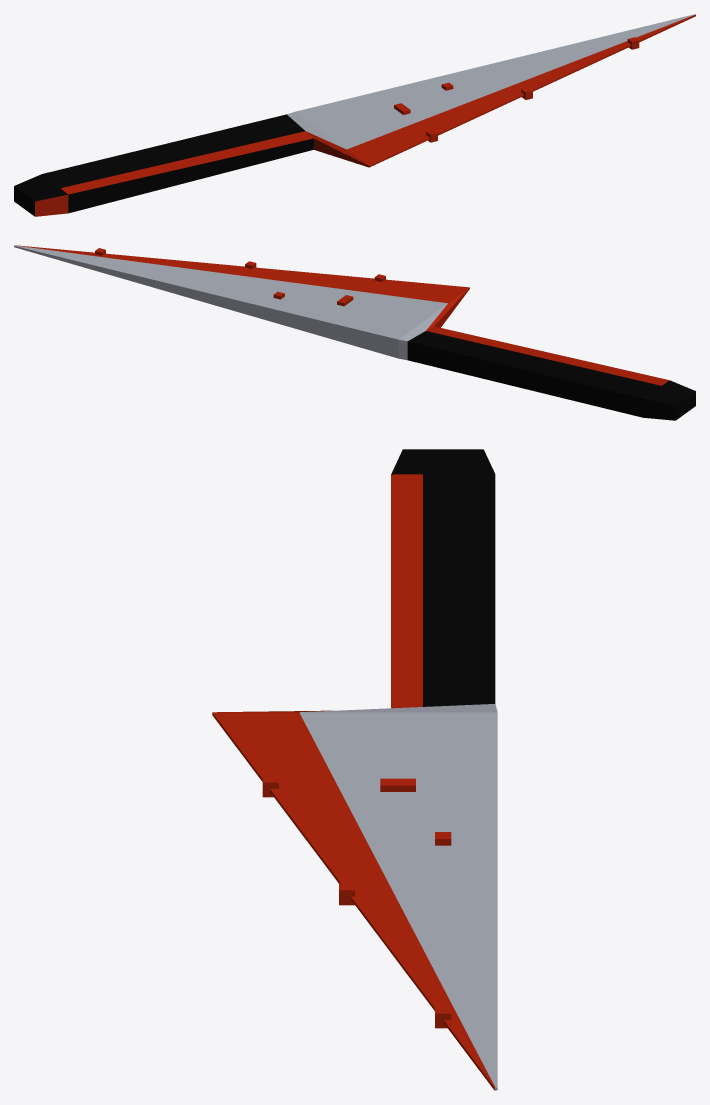
File: bloody_knife.gltf
The picture shows the model from 3 angles, top to bottom: view 1: azimuth 30°, elevation 25°; view 2: azimuth 150°, elevation 25°; view 3: azimuth 270°, elevation 25°; orthographic projection. The views are drawn at different scales.
Parts seen in each view (by area): view 1: Cube.005; view 2: Cube.005; view 3: Cube.005.
Boxes of the visible parts, bbox=[...] form: Cube.005: bbox=[14, 14, 695, 216]; Cube.005: bbox=[14, 245, 695, 420]; Cube.005: bbox=[212, 449, 497, 1090].
Bounding box in the file's own units: 0.42 × 0.0136 × 0.0789.
Materials: 4 (4 with a texture image).
